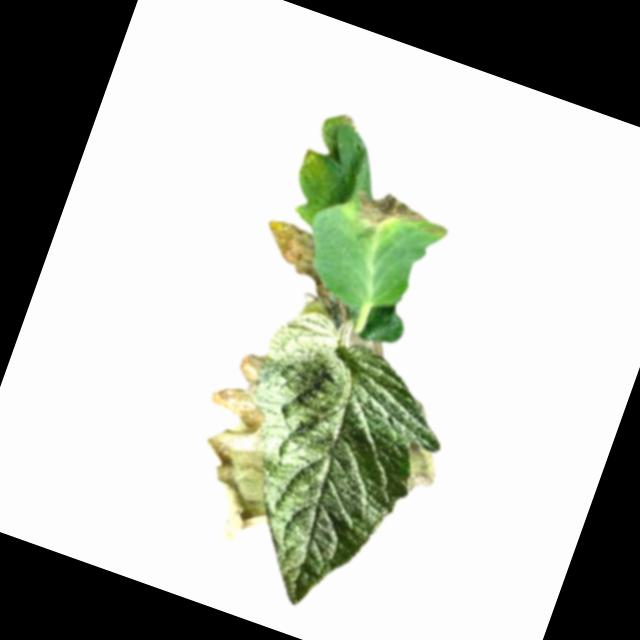Late_blight: (172, 345, 320, 556), (246, 216, 368, 321), (346, 180, 429, 240), (398, 440, 446, 497), (345, 325, 390, 357), (335, 108, 358, 127)
healthy: (190, 300, 469, 633)
